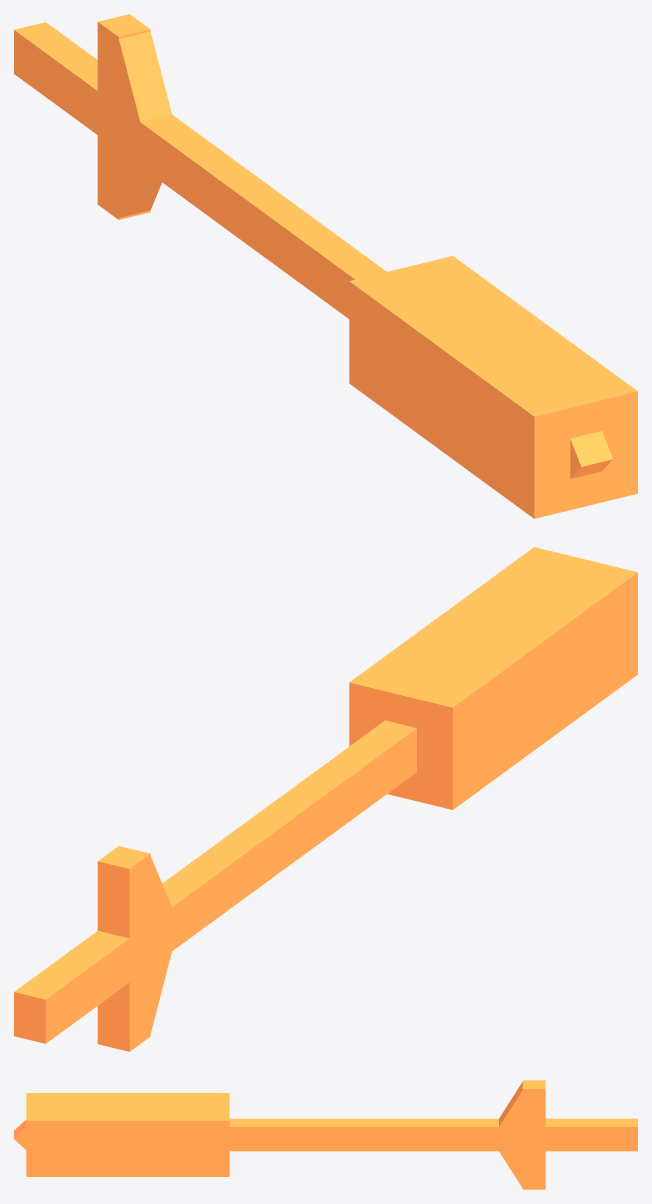
The model's file is 29 GoldenSword.fbx.
3 views of the same model, one above another, from view 1: azimuth 30°, elevation 25°; view 2: azimuth 150°, elevation 25°; view 3: azimuth 270°, elevation 25° (orthographic). The views are drawn at different scales.
Visible parts, largest first — view 1: collider (2), collider, collider (3), collider (1), collider (4), collider (5); view 2: collider (2), collider, collider (1), collider (4), collider (3); view 3: collider (2), collider, collider (1), collider (4), collider (3), collider (5).
Part boxes in pixels (left/top/right/bottom): collider (2): left=349, top=256, right=637, bottom=518; collider: left=14, top=22, right=386, bottom=318; collider (3): left=99, top=31, right=171, bottom=122; collider (1): left=97, top=14, right=150, bottom=219; collider (4): left=99, top=148, right=161, bottom=217; collider (5): left=570, top=431, right=612, bottom=478; collider (2): left=349, top=547, right=637, bottom=809; collider: left=14, top=720, right=416, bottom=1043; collider (1): left=97, top=846, right=150, bottom=1051; collider (4): left=131, top=952, right=171, bottom=1034; collider (3): left=135, top=856, right=171, bottom=924; collider (2): left=26, top=1093, right=229, bottom=1176; collider: left=229, top=1118, right=637, bottom=1151; collider (1): left=522, top=1080, right=545, bottom=1189; collider (4): left=499, top=1151, right=543, bottom=1188; collider (3): left=499, top=1082, right=542, bottom=1126; collider (5): left=14, top=1120, right=26, bottom=1149.
Bounding box in the file's own units: 0.1831 × 0.3086 × 1.74.
